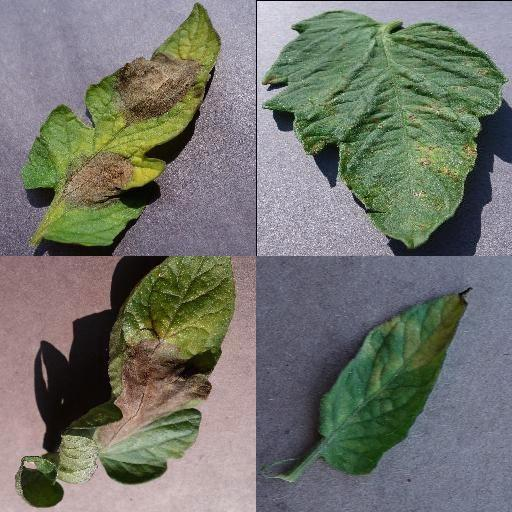Late Blight: (19, 1, 219, 245), (56, 256, 238, 485)
Leaf Mold: (321, 286, 472, 474)
Septoria: (262, 10, 504, 248)
